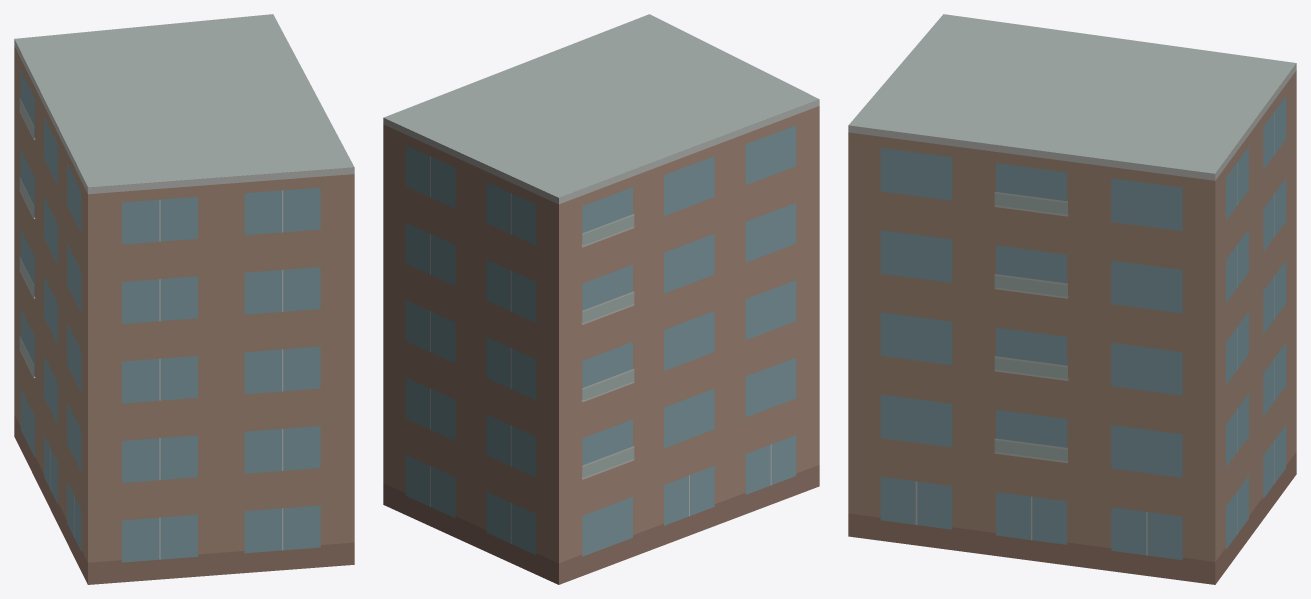
Rendered from survey-upis-32903074.glb.
3 views of the same model, side by side, from view 1: azimuth 30°, elevation 25°; view 2: azimuth 150°, elevation 25°; view 3: azimuth 270°, elevation 25° (orthographic). The views are drawn at different scales.
Parts seen in each view (by area): view 1: survey-upis-32903074.tmp; view 2: survey-upis-32903074.tmp; view 3: survey-upis-32903074.tmp.
Boxes of the visible parts, x1,y1,x2,y2 form: survey-upis-32903074.tmp: (14, 14, 354, 584); survey-upis-32903074.tmp: (383, 14, 819, 584); survey-upis-32903074.tmp: (848, 14, 1296, 584).
Bounding box in the file's own units: 11.93 × 14.3 × 14.14.
